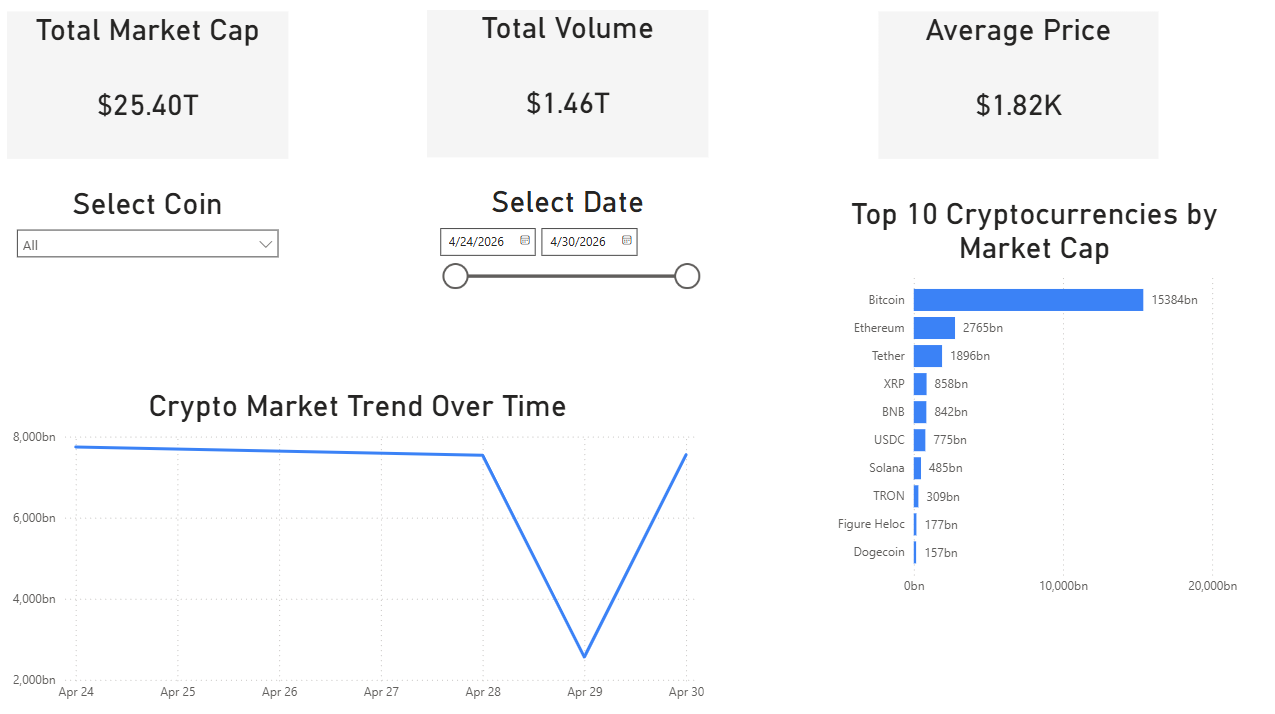

This screenshot's page, from the dashboard's own definition file:
{"tool":"powerbi","page":{"name":"Page 1","canvas":[1280,720],"ordinal":0},"visuals":[{"type":"card","title":"Total Market Cap","fields":{"Values":["public fact_crypto_snapshot.Total Market Cap"]},"box":[11.7,13.3,280,146.7],"z":0},{"type":"card","title":"Total Volume","fields":{"Values":["public fact_crypto_snapshot.Total Volume"]},"box":[430,12.1,280.1,146.9],"z":1000},{"type":"card","title":"Average Price","fields":{"Values":["public fact_crypto_snapshot.Avg Price"]},"box":[879.8,13.6,278.6,146.9],"z":2000},{"type":"clusteredBarChart","title":"Top 10 Cryptocurrencies by Market Cap","fields":{"Category":["public dim_coin.coin_name"],"Y":["Sum(public fact_crypto_snapshot.market_cap)"]},"box":[826.8,196.8,414.9,405.8],"z":3000},{"type":"lineChart","title":"Crypto Market Trend Over Time","fields":{"Y":["public fact_crypto_snapshot.Total Market Cap"],"Category":["public dim_date.full_date"]},"box":[11.7,388.3,698.3,320],"z":4000},{"type":"slicer","title":"Select Coin","fields":{"Values":["public dim_coin.coin_name"]},"box":[11.7,186.7,280,173.3],"z":5000},{"type":"slicer","title":"Select Date","fields":{"Values":["public dim_date.full_date"]},"box":[430,184.7,280.1,174.1],"z":6000}]}

Visuals, with their boxes in screenshot pixels (x1, y1, x2, y2), scaled from the page's 1280x720 canvas onto the 1275x714 screenshot:
"Total Market Cap" card: [left=12, top=13, right=291, bottom=159]
"Total Volume" card: [left=428, top=12, right=707, bottom=158]
"Average Price" card: [left=876, top=13, right=1154, bottom=159]
"Top 10 Cryptocurrencies by Market Cap" clusteredBarChart: [left=824, top=195, right=1237, bottom=598]
"Crypto Market Trend Over Time" lineChart: [left=12, top=385, right=707, bottom=702]
"Select Coin" slicer: [left=12, top=185, right=291, bottom=357]
"Select Date" slicer: [left=428, top=183, right=707, bottom=356]
